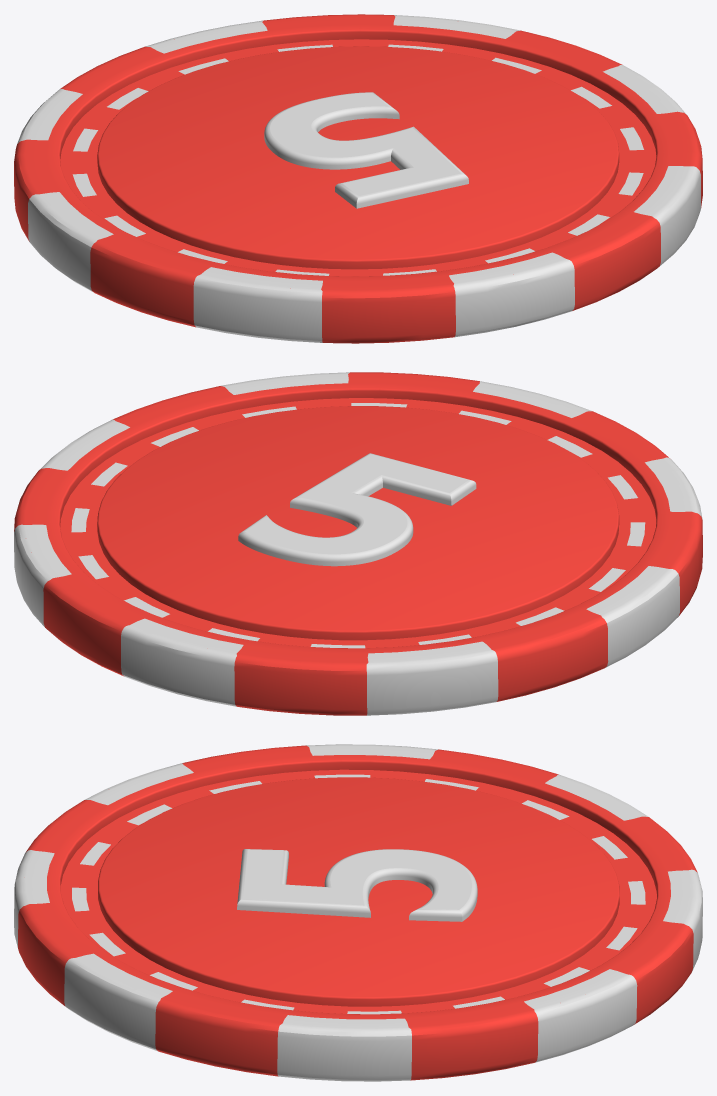
3 views of the same model, one above another, from view 1: azimuth 30°, elevation 25°; view 2: azimuth 150°, elevation 25°; view 3: azimuth 270°, elevation 25° (orthographic).
Visible parts, largest first — view 1: Mesh_1001_1, Mesh_1001, Mesh_1001_2; view 2: Mesh_1001_1, Mesh_1001, Mesh_1001_2; view 3: Mesh_1001_1, Mesh_1001, Mesh_1001_2.
Part boxes in pixels (x1,y1,x2,y2): Mesh_1001_1: (14,14,702,343); Mesh_1001: (17,15,700,342); Mesh_1001_2: (264,92,468,208); Mesh_1001_1: (14,372,702,715); Mesh_1001: (14,372,702,715); Mesh_1001_2: (238,453,476,566); Mesh_1001_1: (18,745,697,1080); Mesh_1001: (14,744,702,1081); Mesh_1001_2: (237,849,477,921).
Bounding box in the file's own units: 0.0802 × 0.00948 × 0.0802.
